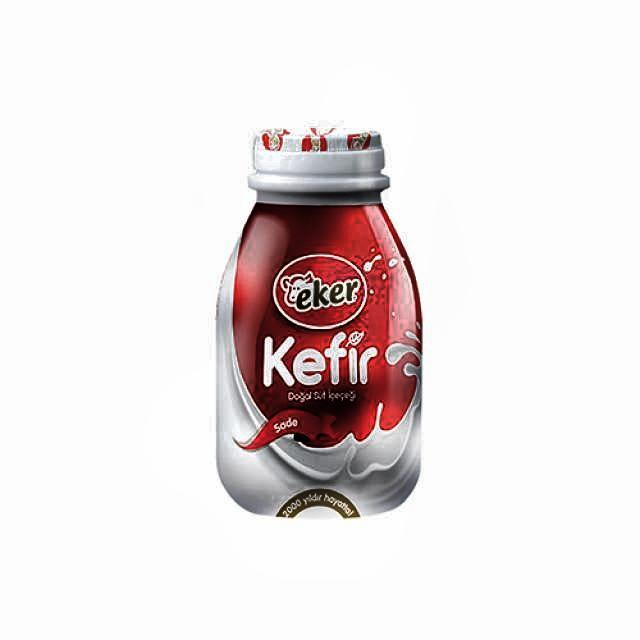plastic: (216, 124, 425, 519)
